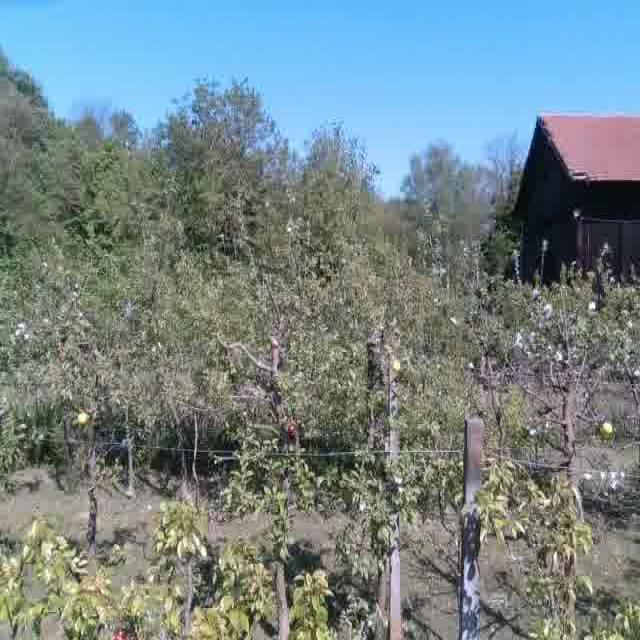red: (284, 423, 301, 439)
yellow: (75, 408, 92, 427), (390, 356, 405, 377), (601, 420, 615, 440)
